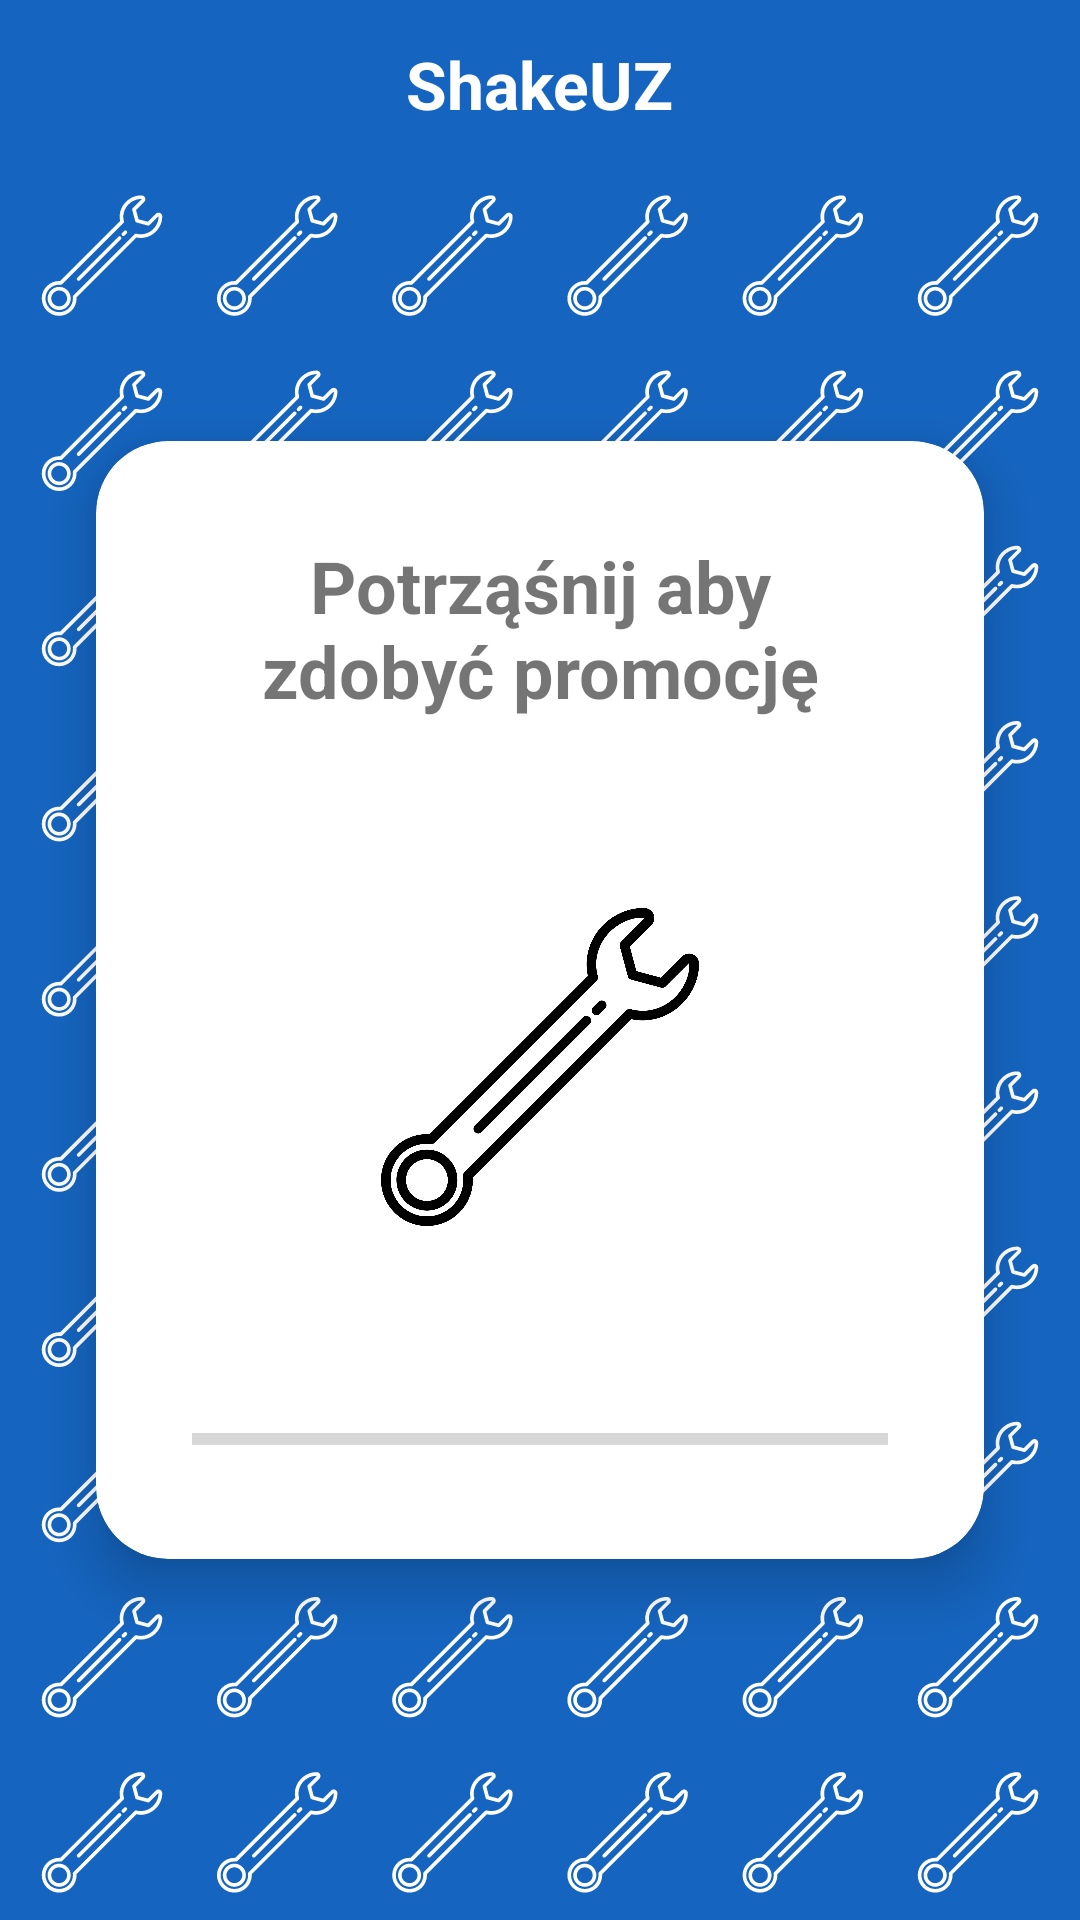

Locate icon controls on the screen. Image size 1080×1920, boxes as (x1, y1, x2, y2).
wrench: (381, 908, 699, 1226)
